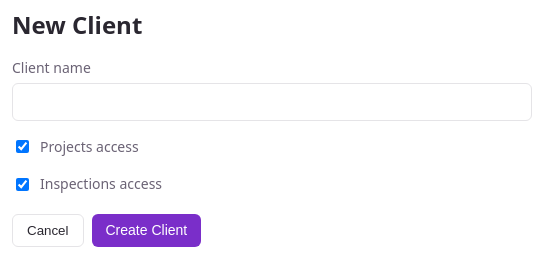
ClientCreatePage › disables the submit button while saving
The width and height of the screenshot is (549, 264).
In the field labelled "Client name": coordinates (272, 102) left=12, top=83, right=532, bottom=121, type "Slow Co"
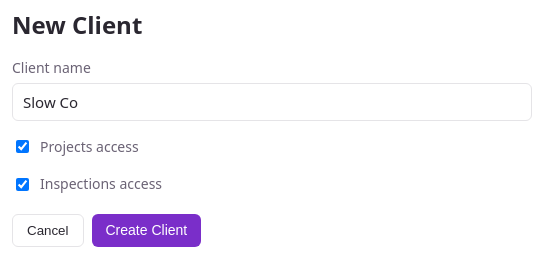
Click the button "Create Client": coordinates (146, 230) left=92, top=214, right=201, bottom=247
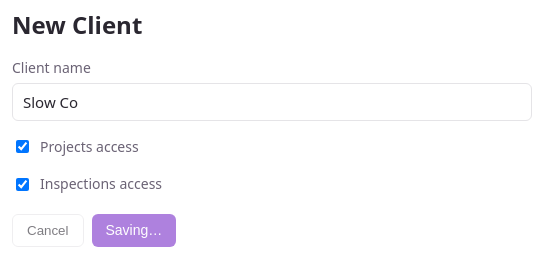
Now the button "Saving…" is disabled, box left=92, top=214, right=176, bottom=247
